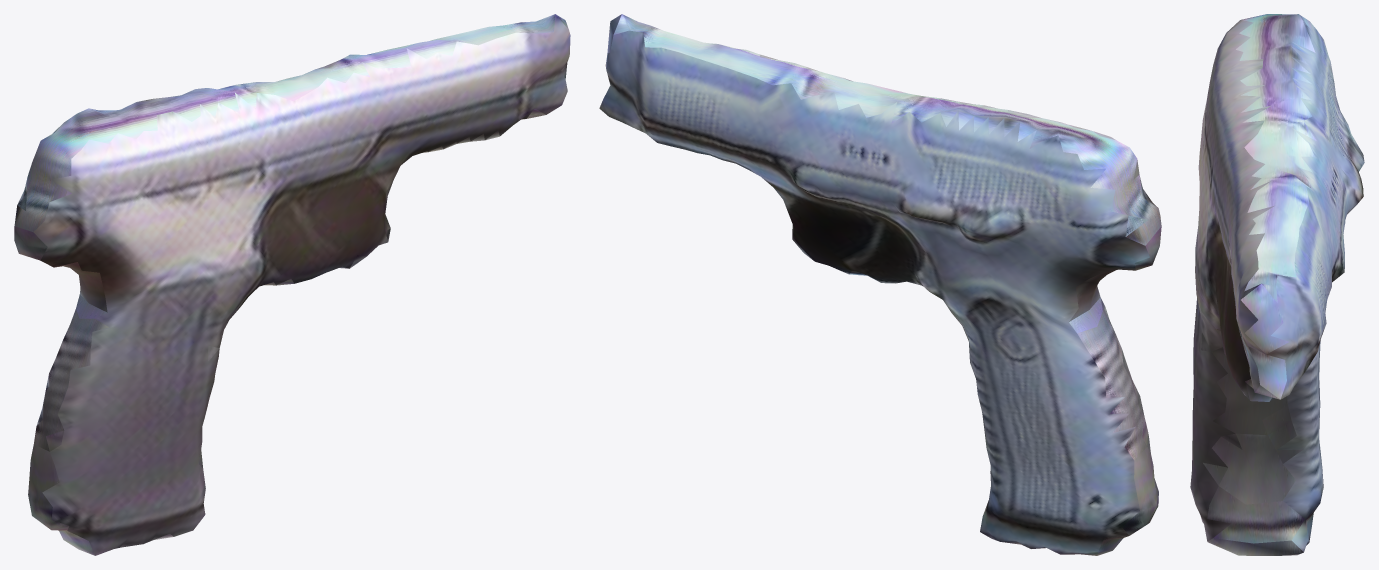
Rendered from pistol6-breta.glb.
3 views of the same model, side by side, from view 1: azimuth 30°, elevation 25°; view 2: azimuth 150°, elevation 25°; view 3: azimuth 270°, elevation 25° (orthographic). The views are drawn at different scales.
Parts seen in each view (by area): view 1: geometry_0.027; view 2: geometry_0.027; view 3: geometry_0.027.
Part boxes in pixels (<box>): geometry_0.027: <box>14,14,570,555</box>; geometry_0.027: <box>599,14,1161,555</box>; geometry_0.027: <box>1190,14,1364,555</box>.
Size of the model in its own units: 0.2083 by 0.1527 by 0.0486.
Materials: 1 (1 with a texture image).
